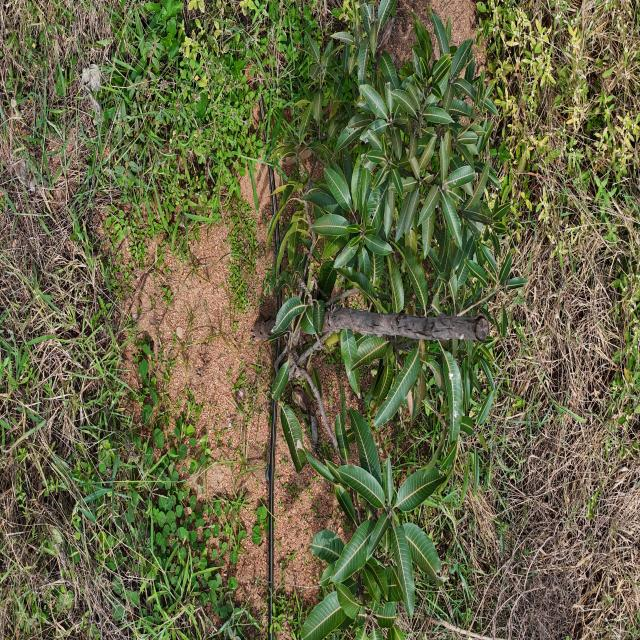mangoTree: (256, 0, 511, 640)
